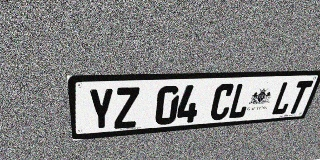0: (154, 85, 181, 125)
4: (175, 85, 202, 124)
C: (208, 83, 236, 121)
L: (227, 83, 255, 119), (270, 81, 298, 115)
T: (285, 81, 314, 114)
Y: (87, 88, 114, 131)
Z: (114, 87, 140, 129)
